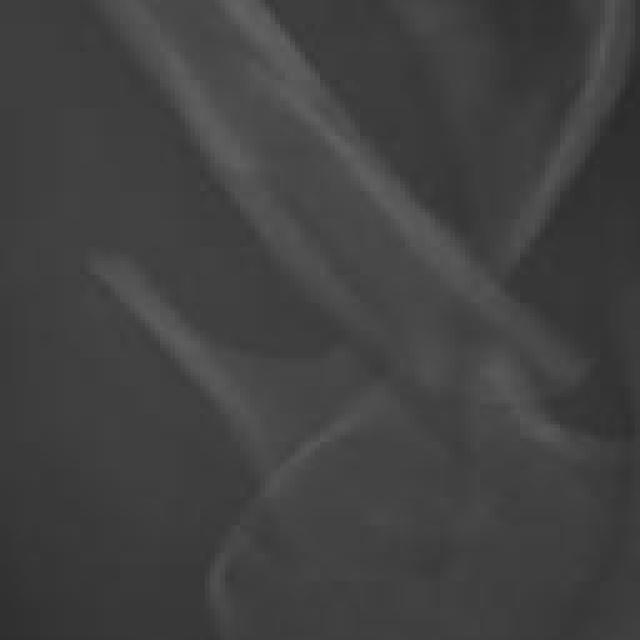fracture: (1, 2, 640, 640)
